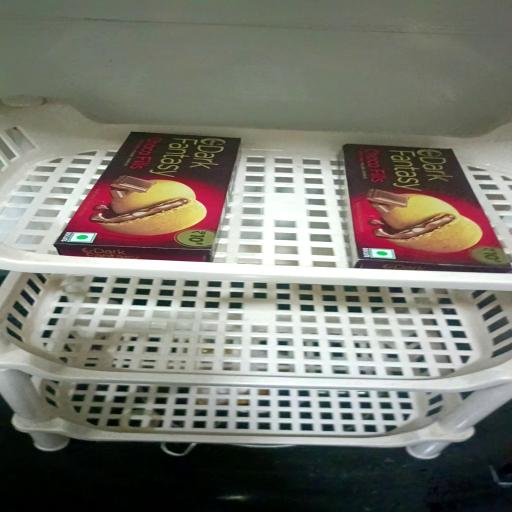Choco Fills: (55, 135, 241, 263), (348, 143, 512, 269)
